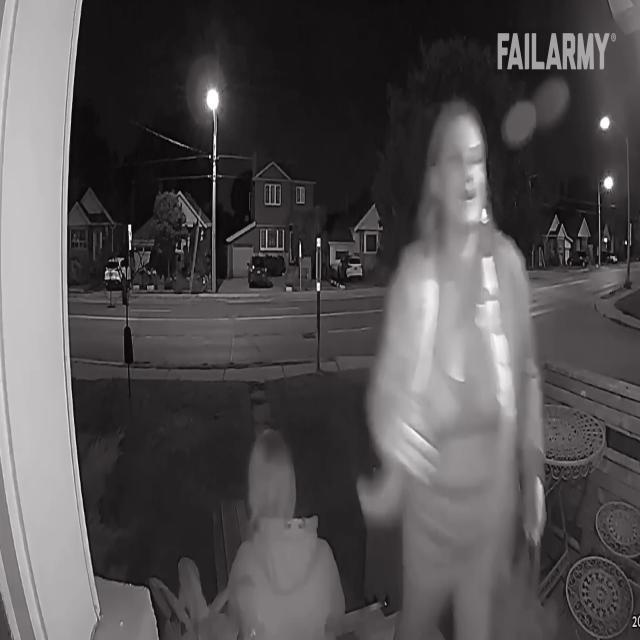person: (378, 100, 545, 640), (223, 430, 347, 640)
